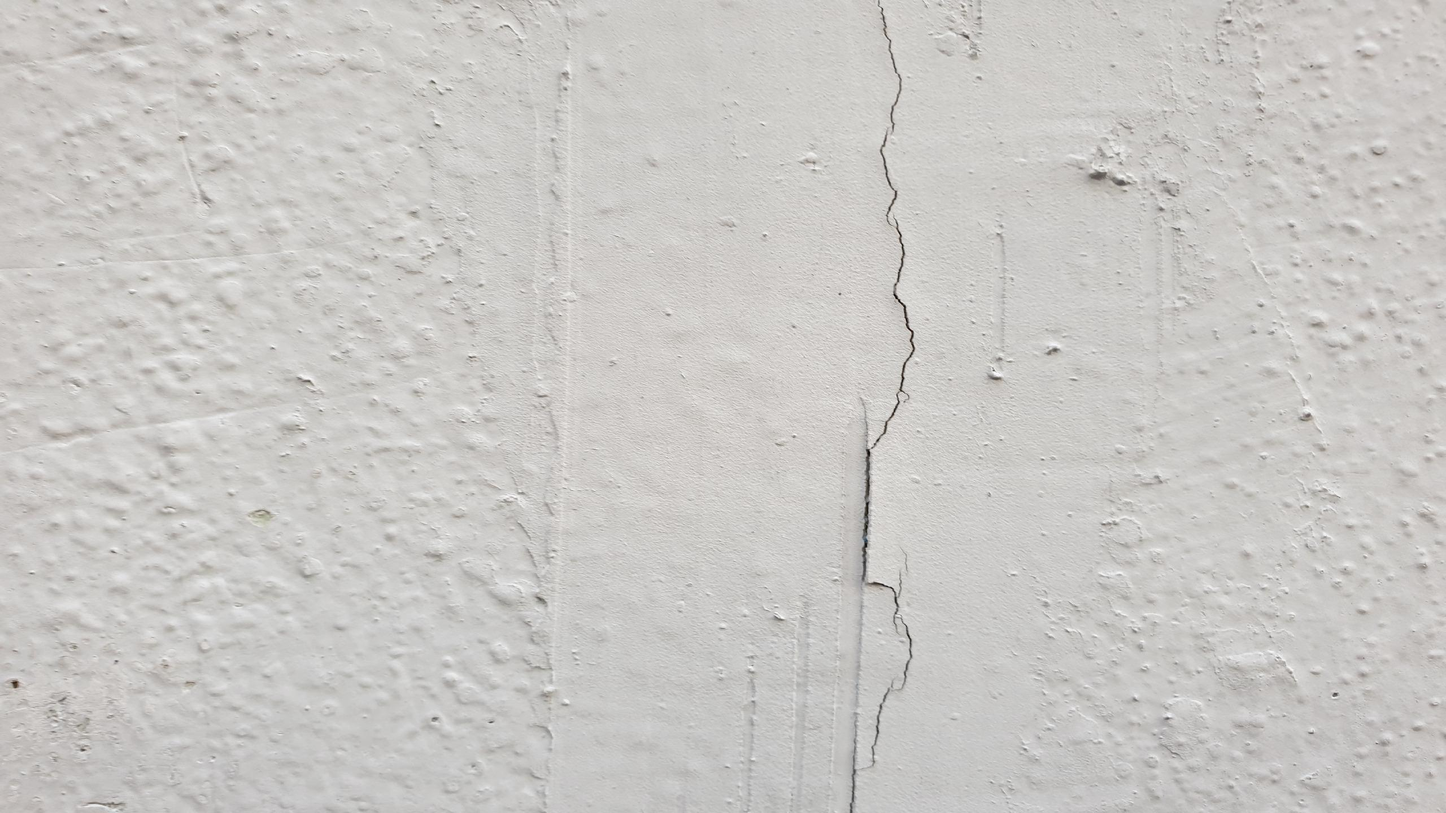crack: (841, 0, 925, 812)
